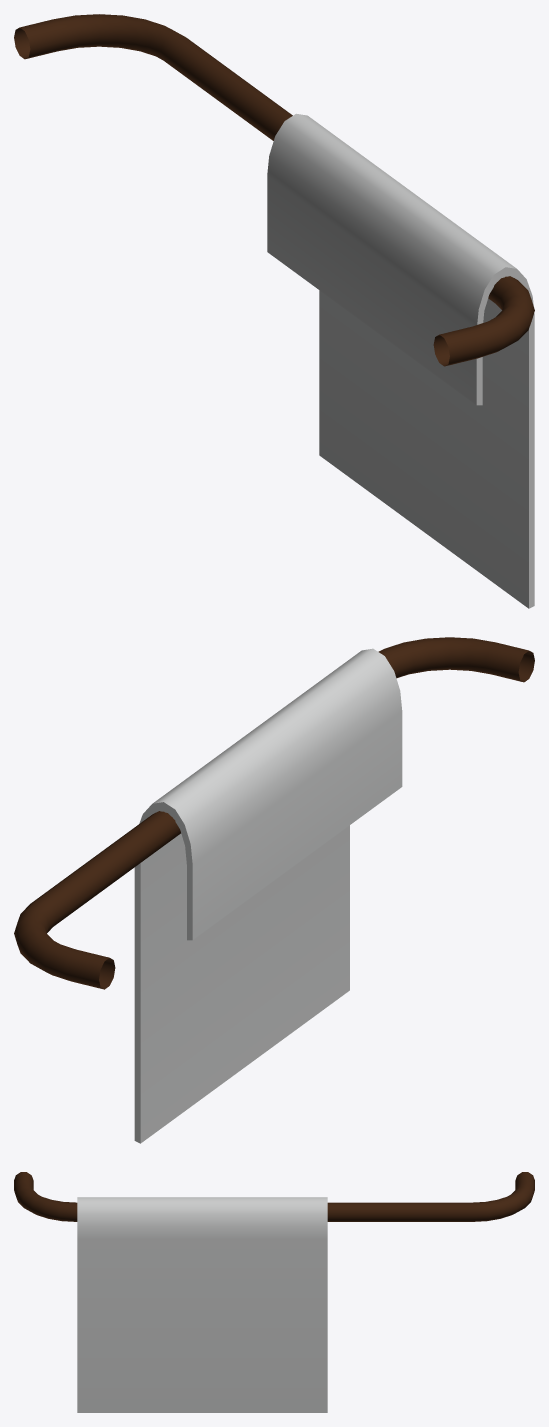
Rendered from PorteServiette2.fbx.
3 views of the same model, one above another, from view 1: azimuth 30°, elevation 25°; view 2: azimuth 150°, elevation 25°; view 3: azimuth 270°, elevation 25° (orthographic). The views are drawn at different scales.
Parts seen in each view (by area): view 1: PorteServiette2; view 2: PorteServiette2; view 3: PorteServiette2.
Boxes of the visible parts, x1,y1,x2,y2 form: PorteServiette2: (14,14,534,608); PorteServiette2: (14,637,534,1143); PorteServiette2: (14,1172,534,1412).
Bounding box in the file's own units: 17.27 × 41.63 × 94.73.
